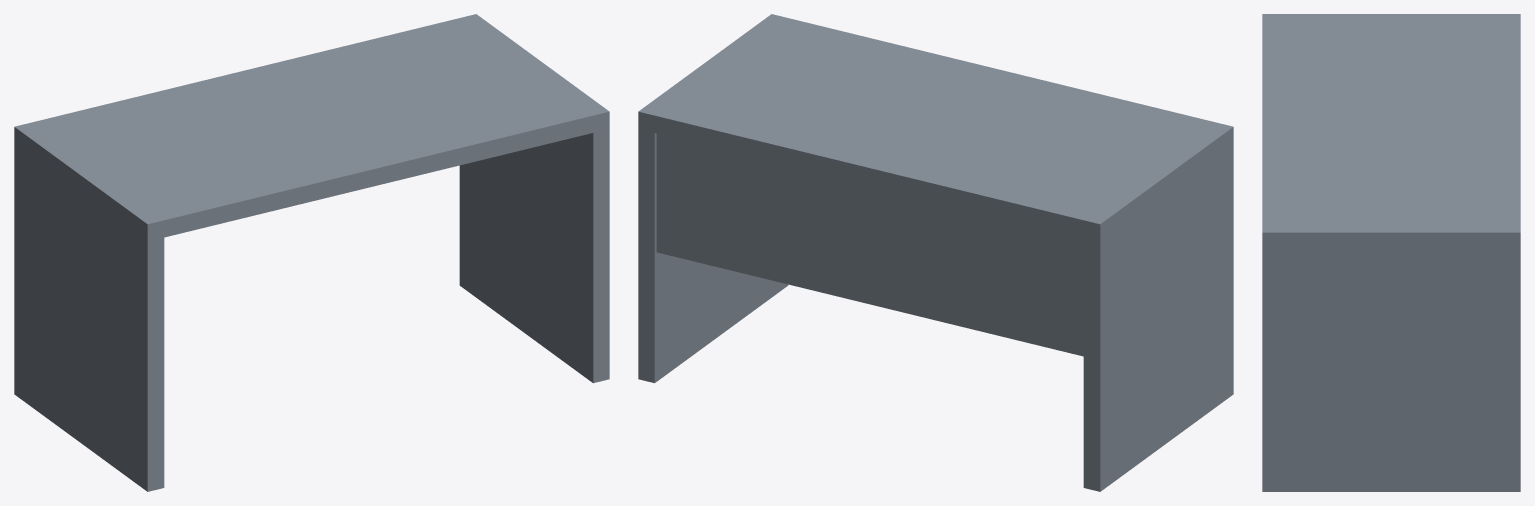
The model's file is desk.glb.
3 renders of one model, left to right at view 1: azimuth 30°, elevation 25°; view 2: azimuth 150°, elevation 25°; view 3: azimuth 270°, elevation 25°, orthographic. The views are drawn at different scales.
Parts seen in each view (by area): view 1: desk; view 2: desk; view 3: desk.
Boxes of the visible parts, x1=… form: desk: x1=14, y1=14, x2=609, y2=491; desk: x1=638, y1=14, x2=1233, y2=491; desk: x1=1262, y1=14, x2=1520, y2=491.
Size of the model in its own units: 1.4 by 0.775 by 0.7.
